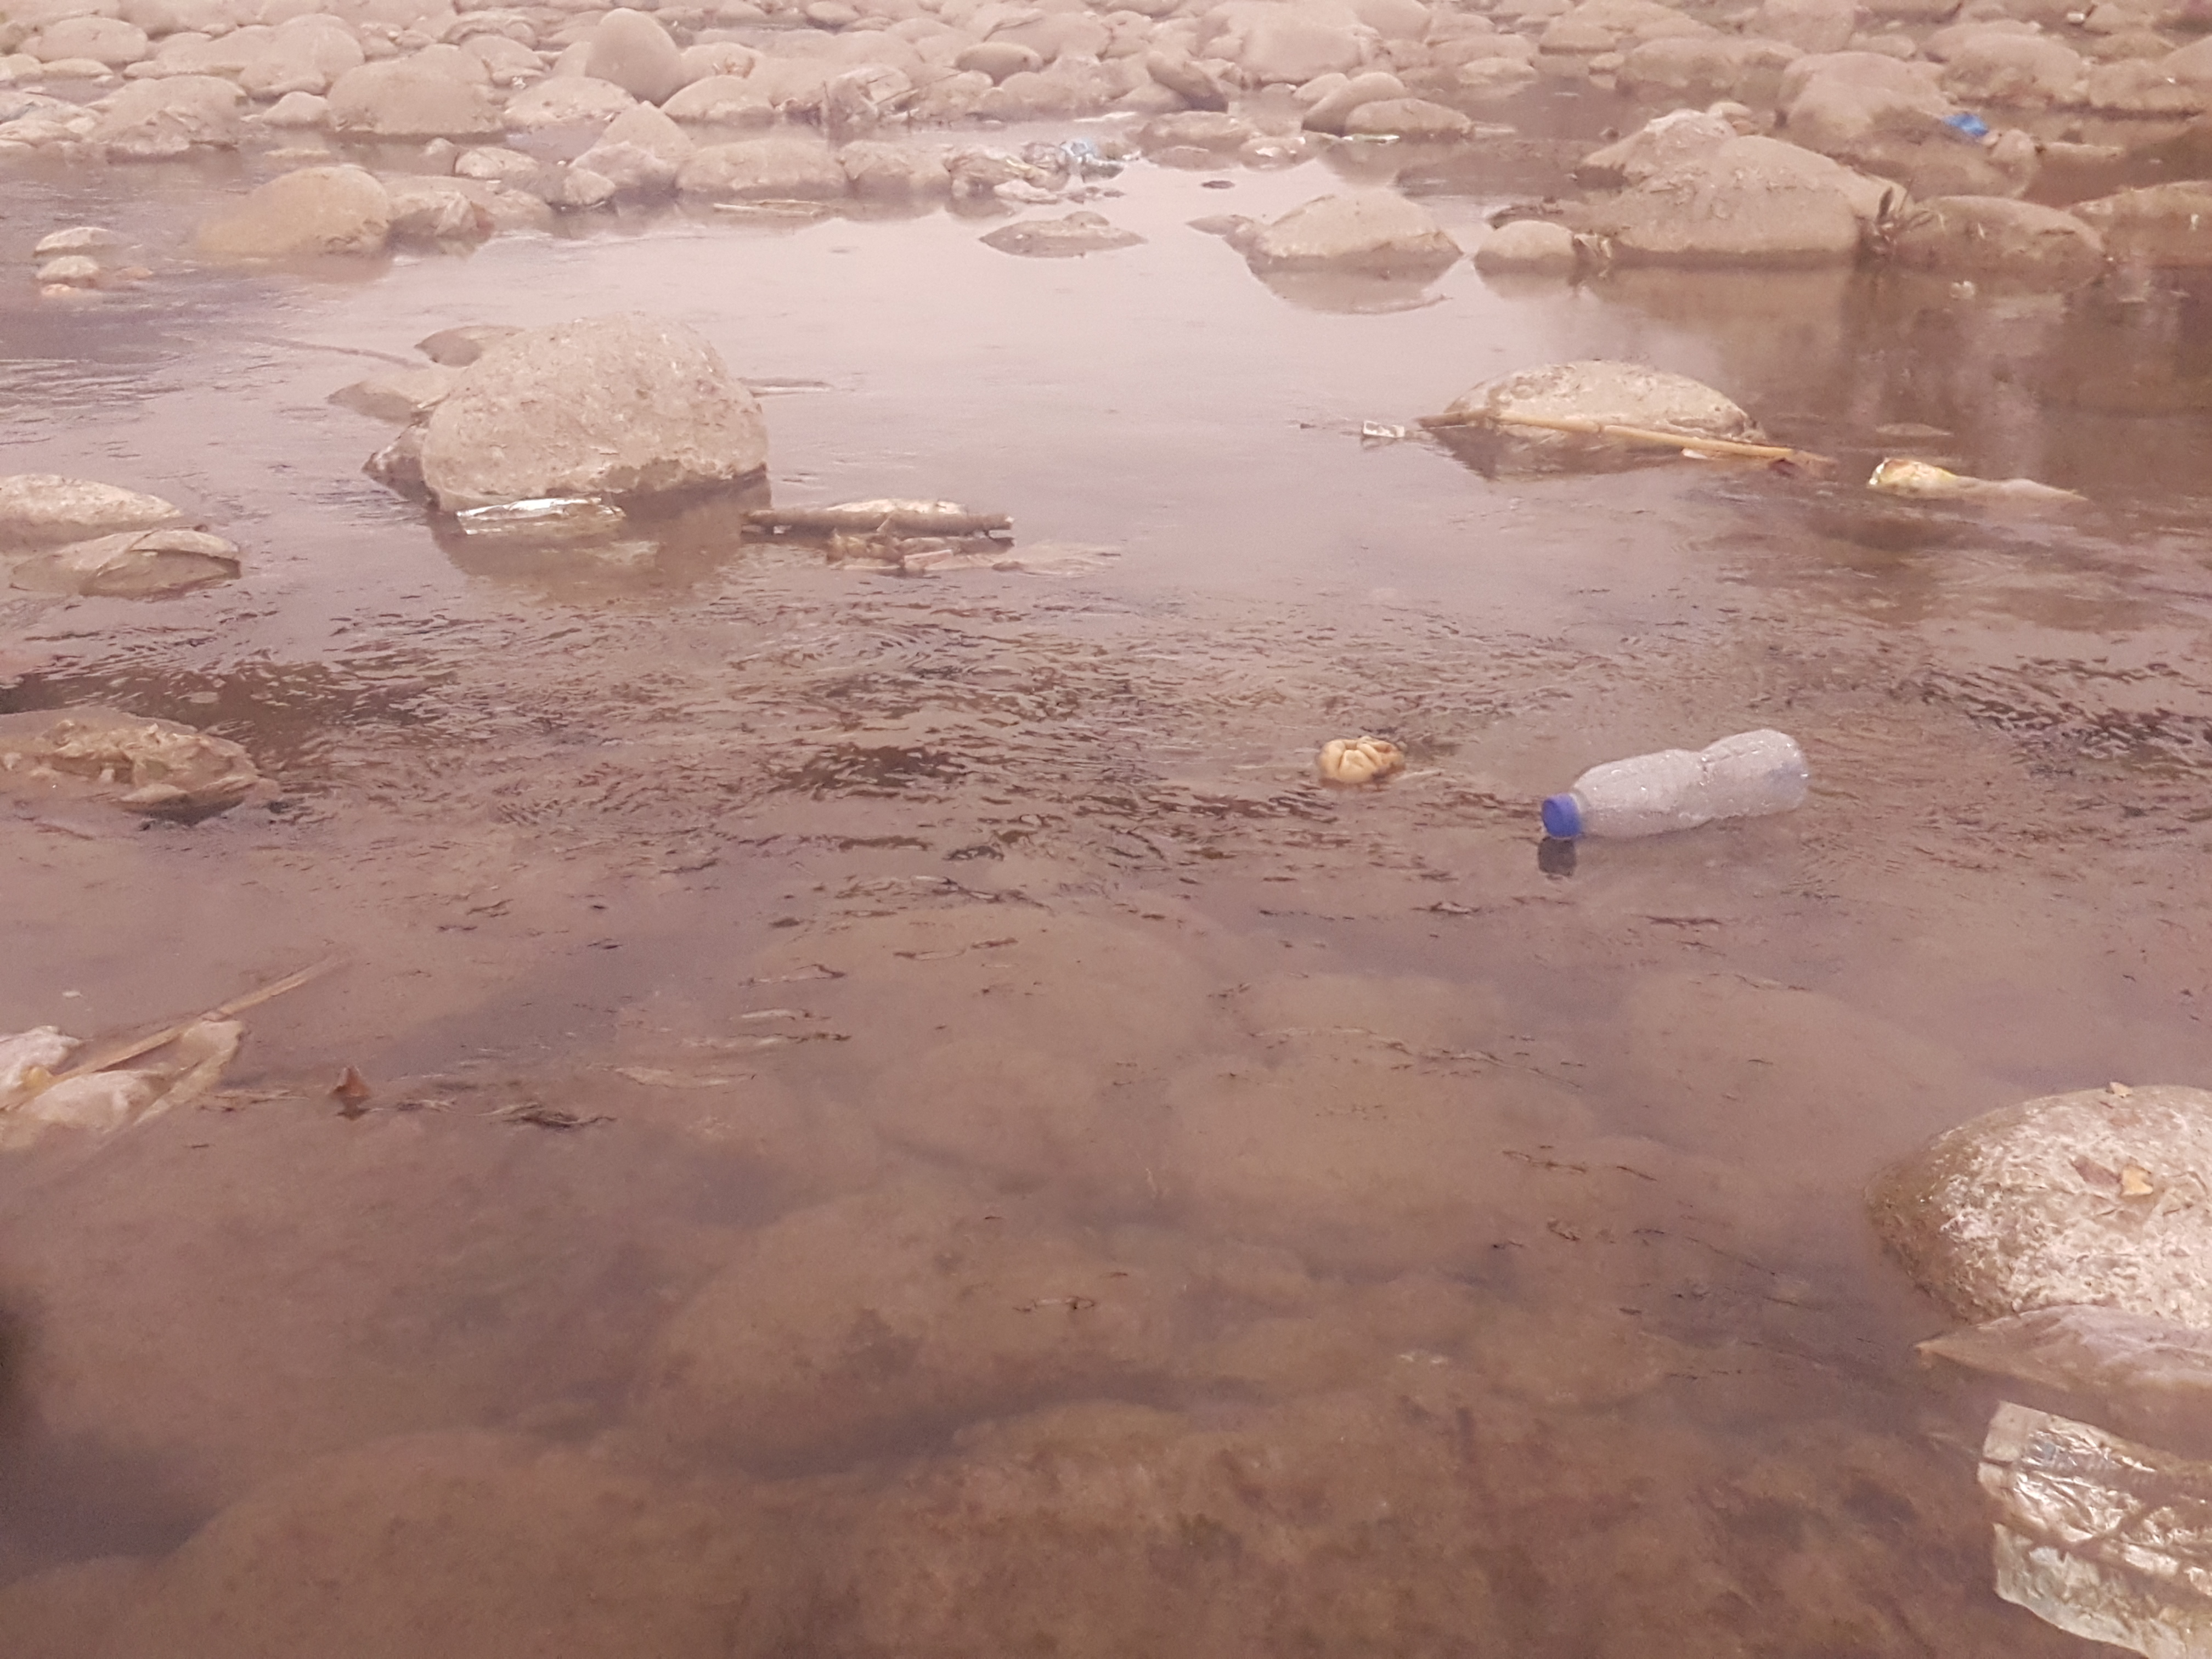Plastic Bottle: (1540, 730, 1808, 835), (1867, 458, 2071, 502)
